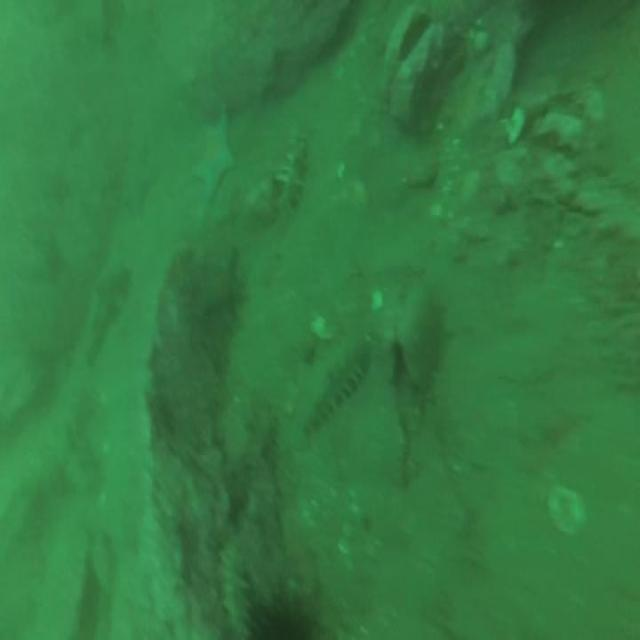holothurian: (300, 338, 367, 432), (86, 266, 130, 358), (218, 540, 250, 640), (275, 139, 305, 215)
scallop: (310, 315, 326, 338), (372, 288, 382, 314)
starfish: (193, 117, 234, 199)
